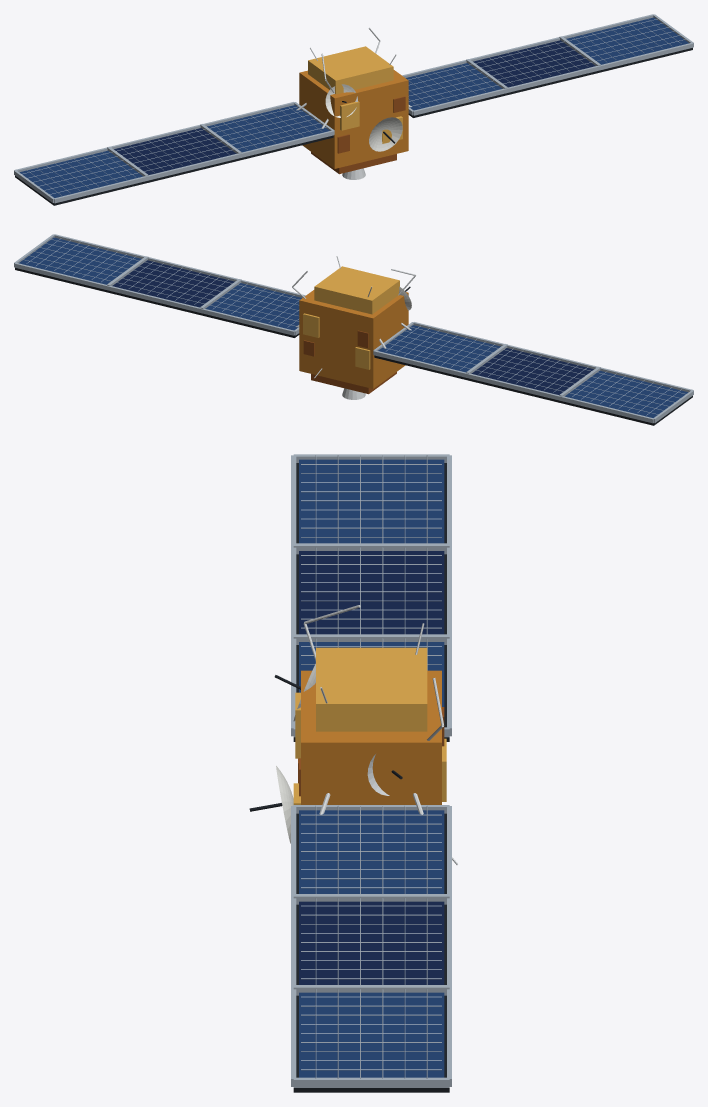
Rendered from INSAT-1A.glb.
3 views of the same model, one above another, from view 1: azimuth 30°, elevation 25°; view 2: azimuth 150°, elevation 25°; view 3: azimuth 270°, elevation 25° (orthographic). The views are drawn at different scales.
Parts seen in each view (by area): view 1: INSAT_1A_MAIN_GOLD_BUS, INSAT_1A_LEFT_SOLAR_WING_FRAME, INSAT_1A_RIGHT_SOLAR_WING_FRAME, INSAT_1A_LEFT_SOLAR_WING_SECTION_3, INSAT_1A_RIGHT_SOLAR_WING_SECTION_3, INSAT_1A_LEFT_SOLAR_WING_SECTION_1, INSAT_1A_RIGHT_SOLAR_WING_SECTION_2, INSAT_1A_LEFT_SOLAR_WING_SECTION_2, INSAT_1A_UPPER_GOLD_MODULE, INSAT_1A_RIGHT_SOLAR_WING_SECTION_1, INSAT_1A_LEFT_SOLAR_WING_CELL_GRID, INSAT_1A_RIGHT_SOLAR_WING_CELL_GRID (+6 smaller); view 2: INSAT_1A_MAIN_GOLD_BUS, INSAT_1A_LEFT_SOLAR_WING_FRAME, INSAT_1A_RIGHT_SOLAR_WING_FRAME, INSAT_1A_LEFT_SOLAR_WING_SECTION_3, INSAT_1A_RIGHT_SOLAR_WING_SECTION_3, INSAT_1A_LEFT_SOLAR_WING_SECTION_1, INSAT_1A_RIGHT_SOLAR_WING_SECTION_2, INSAT_1A_LEFT_SOLAR_WING_SECTION_2, INSAT_1A_UPPER_GOLD_MODULE, INSAT_1A_RIGHT_SOLAR_WING_SECTION_1, INSAT_1A_LEFT_SOLAR_WING_CELL_GRID, INSAT_1A_RIGHT_SOLAR_WING_CELL_GRID (+5 smaller); view 3: INSAT_1A_RIGHT_SOLAR_WING_SECTION_3, INSAT_1A_LEFT_SOLAR_WING_SECTION_3, INSAT_1A_RIGHT_SOLAR_WING_SECTION_1, INSAT_1A_RIGHT_SOLAR_WING_SECTION_2, INSAT_1A_LEFT_SOLAR_WING_SECTION_2, INSAT_1A_MAIN_GOLD_BUS, INSAT_1A_UPPER_GOLD_MODULE, INSAT_1A_RIGHT_SOLAR_WING_FRAME, INSAT_1A_RIGHT_SOLAR_WING_CELL_GRID, INSAT_1A_LEFT_SOLAR_WING_FRAME, INSAT_1A_LEFT_SOLAR_WING_CELL_GRID, INSAT_1A_RIGHT_SOLAR_WING_BACKING (+2 smaller).
Part boxes in pixels (left/top/right/bottom): INSAT_1A_MAIN_GOLD_BUS: left=299, top=70, right=408, bottom=168; INSAT_1A_LEFT_SOLAR_WING_FRAME: left=14, top=102, right=334, bottom=203; INSAT_1A_RIGHT_SOLAR_WING_FRAME: left=402, top=14, right=693, bottom=115; INSAT_1A_LEFT_SOLAR_WING_SECTION_3: left=19, top=150, right=142, bottom=197; INSAT_1A_RIGHT_SOLAR_WING_SECTION_3: left=566, top=17, right=688, bottom=64; INSAT_1A_LEFT_SOLAR_WING_SECTION_1: left=207, top=105, right=329, bottom=152; INSAT_1A_RIGHT_SOLAR_WING_SECTION_2: left=473, top=40, right=595, bottom=87; INSAT_1A_LEFT_SOLAR_WING_SECTION_2: left=114, top=128, right=236, bottom=174; INSAT_1A_UPPER_GOLD_MODULE: left=308, top=46, right=393, bottom=94; INSAT_1A_RIGHT_SOLAR_WING_SECTION_1: left=406, top=63, right=502, bottom=110; INSAT_1A_LEFT_SOLAR_WING_CELL_GRID: left=21, top=106, right=327, bottom=195; INSAT_1A_RIGHT_SOLAR_WING_CELL_GRID: left=408, top=18, right=686, bottom=107; INSAT_1A_MAIN_GOLD_BUS: left=299, top=290, right=408, bottom=388; INSAT_1A_LEFT_SOLAR_WING_FRAME: left=373, top=322, right=693, bottom=423; INSAT_1A_RIGHT_SOLAR_WING_FRAME: left=14, top=234, right=305, bottom=335; INSAT_1A_LEFT_SOLAR_WING_SECTION_3: left=565, top=370, right=688, bottom=417; INSAT_1A_RIGHT_SOLAR_WING_SECTION_3: left=19, top=237, right=141, bottom=284; INSAT_1A_LEFT_SOLAR_WING_SECTION_1: left=378, top=325, right=500, bottom=372; INSAT_1A_RIGHT_SOLAR_WING_SECTION_2: left=112, top=260, right=234, bottom=307; INSAT_1A_LEFT_SOLAR_WING_SECTION_2: left=471, top=348, right=593, bottom=394; INSAT_1A_UPPER_GOLD_MODULE: left=314, top=266, right=399, bottom=314; INSAT_1A_RIGHT_SOLAR_WING_SECTION_1: left=205, top=283, right=301, bottom=330; INSAT_1A_LEFT_SOLAR_WING_CELL_GRID: left=380, top=326, right=686, bottom=415; INSAT_1A_RIGHT_SOLAR_WING_CELL_GRID: left=21, top=238, right=299, bottom=327; INSAT_1A_RIGHT_SOLAR_WING_SECTION_3: left=299, top=992, right=444, bottom=1077; INSAT_1A_LEFT_SOLAR_WING_SECTION_3: left=299, top=459, right=444, bottom=543; INSAT_1A_RIGHT_SOLAR_WING_SECTION_1: left=299, top=810, right=444, bottom=893; INSAT_1A_RIGHT_SOLAR_WING_SECTION_2: left=299, top=901, right=444, bottom=984; INSAT_1A_LEFT_SOLAR_WING_SECTION_2: left=299, top=551, right=444, bottom=634; INSAT_1A_MAIN_GOLD_BUS: left=301, top=670, right=441, bottom=804; INSAT_1A_UPPER_GOLD_MODULE: left=316, top=647, right=427, bottom=731; INSAT_1A_RIGHT_SOLAR_WING_FRAME: left=291, top=805, right=451, bottom=1087; INSAT_1A_RIGHT_SOLAR_WING_CELL_GRID: left=301, top=806, right=441, bottom=1078; INSAT_1A_LEFT_SOLAR_WING_FRAME: left=291, top=454, right=451, bottom=737; INSAT_1A_LEFT_SOLAR_WING_CELL_GRID: left=301, top=455, right=441, bottom=670; INSAT_1A_RIGHT_SOLAR_WING_BACKING: left=293, top=813, right=449, bottom=1092.
Size of the model in its own units: 9.97 by 1.99 by 1.41.
